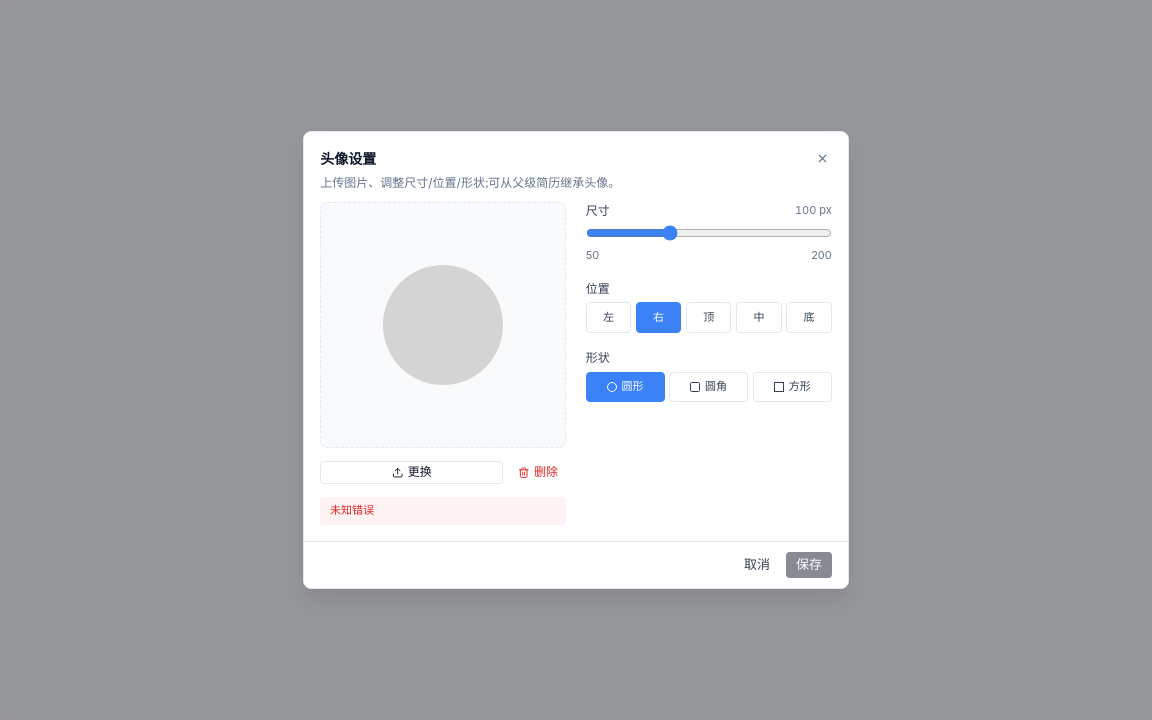
Test: AvatarDialog — branch with avatar › selecting a different position marks the save button enabled when branch.avatar_position differs from draft
Click the button with test id "avatar-position-left". click: (608, 318)
box: [586,302,631,333]
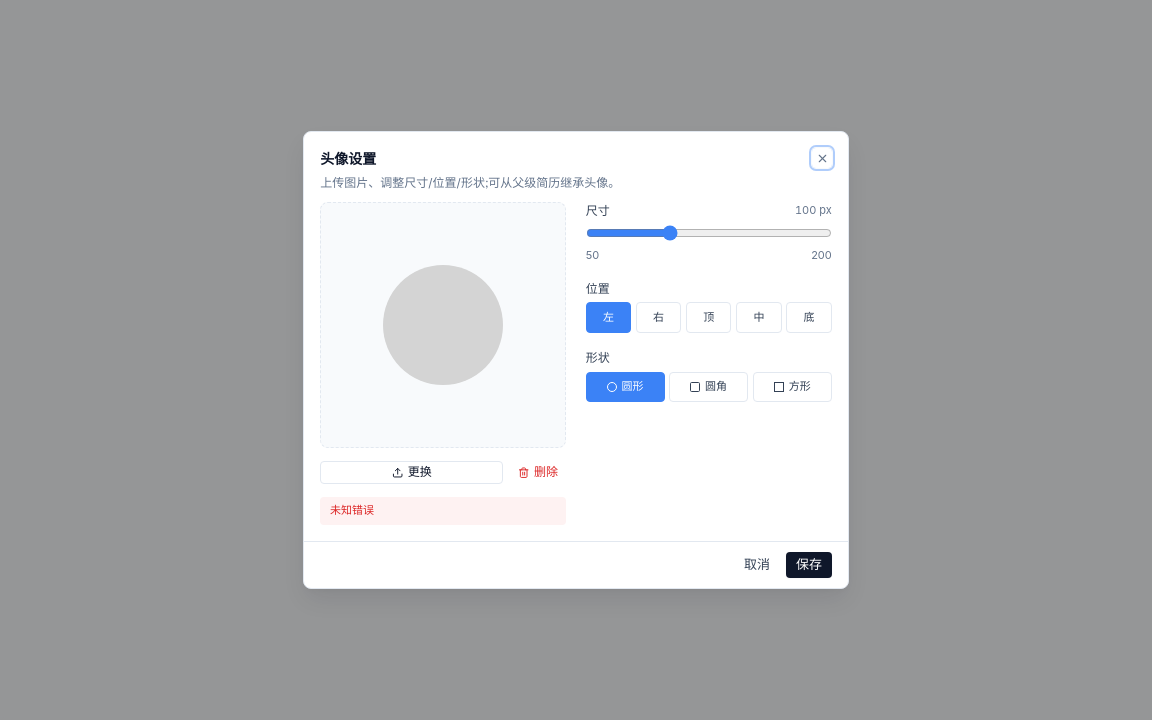
Expected: the button with test id "avatar-save" is enabled, [786,552,832,578]
